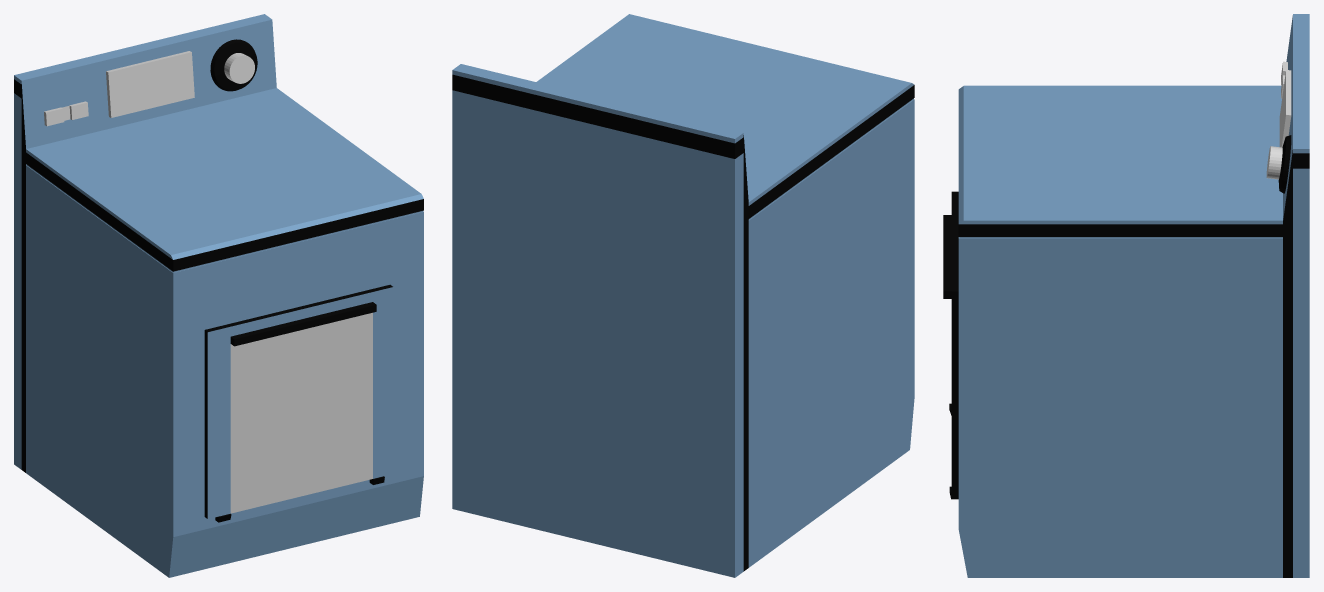
The model's file is Dryer.fbx.
3 views of the same model, side by side, from view 1: azimuth 30°, elevation 25°; view 2: azimuth 150°, elevation 25°; view 3: azimuth 270°, elevation 25° (orthographic). The views are drawn at different scales.
Parts seen in each view (by area): view 1: Cube; view 2: Cube; view 3: Cube.
Boxes of the visible parts, x1,y1,x2,y2 form: Cube: [14, 14, 423, 577]; Cube: [452, 14, 914, 577]; Cube: [943, 14, 1309, 577].
Bounding box in the file's own units: 120 × 178 × 138.
